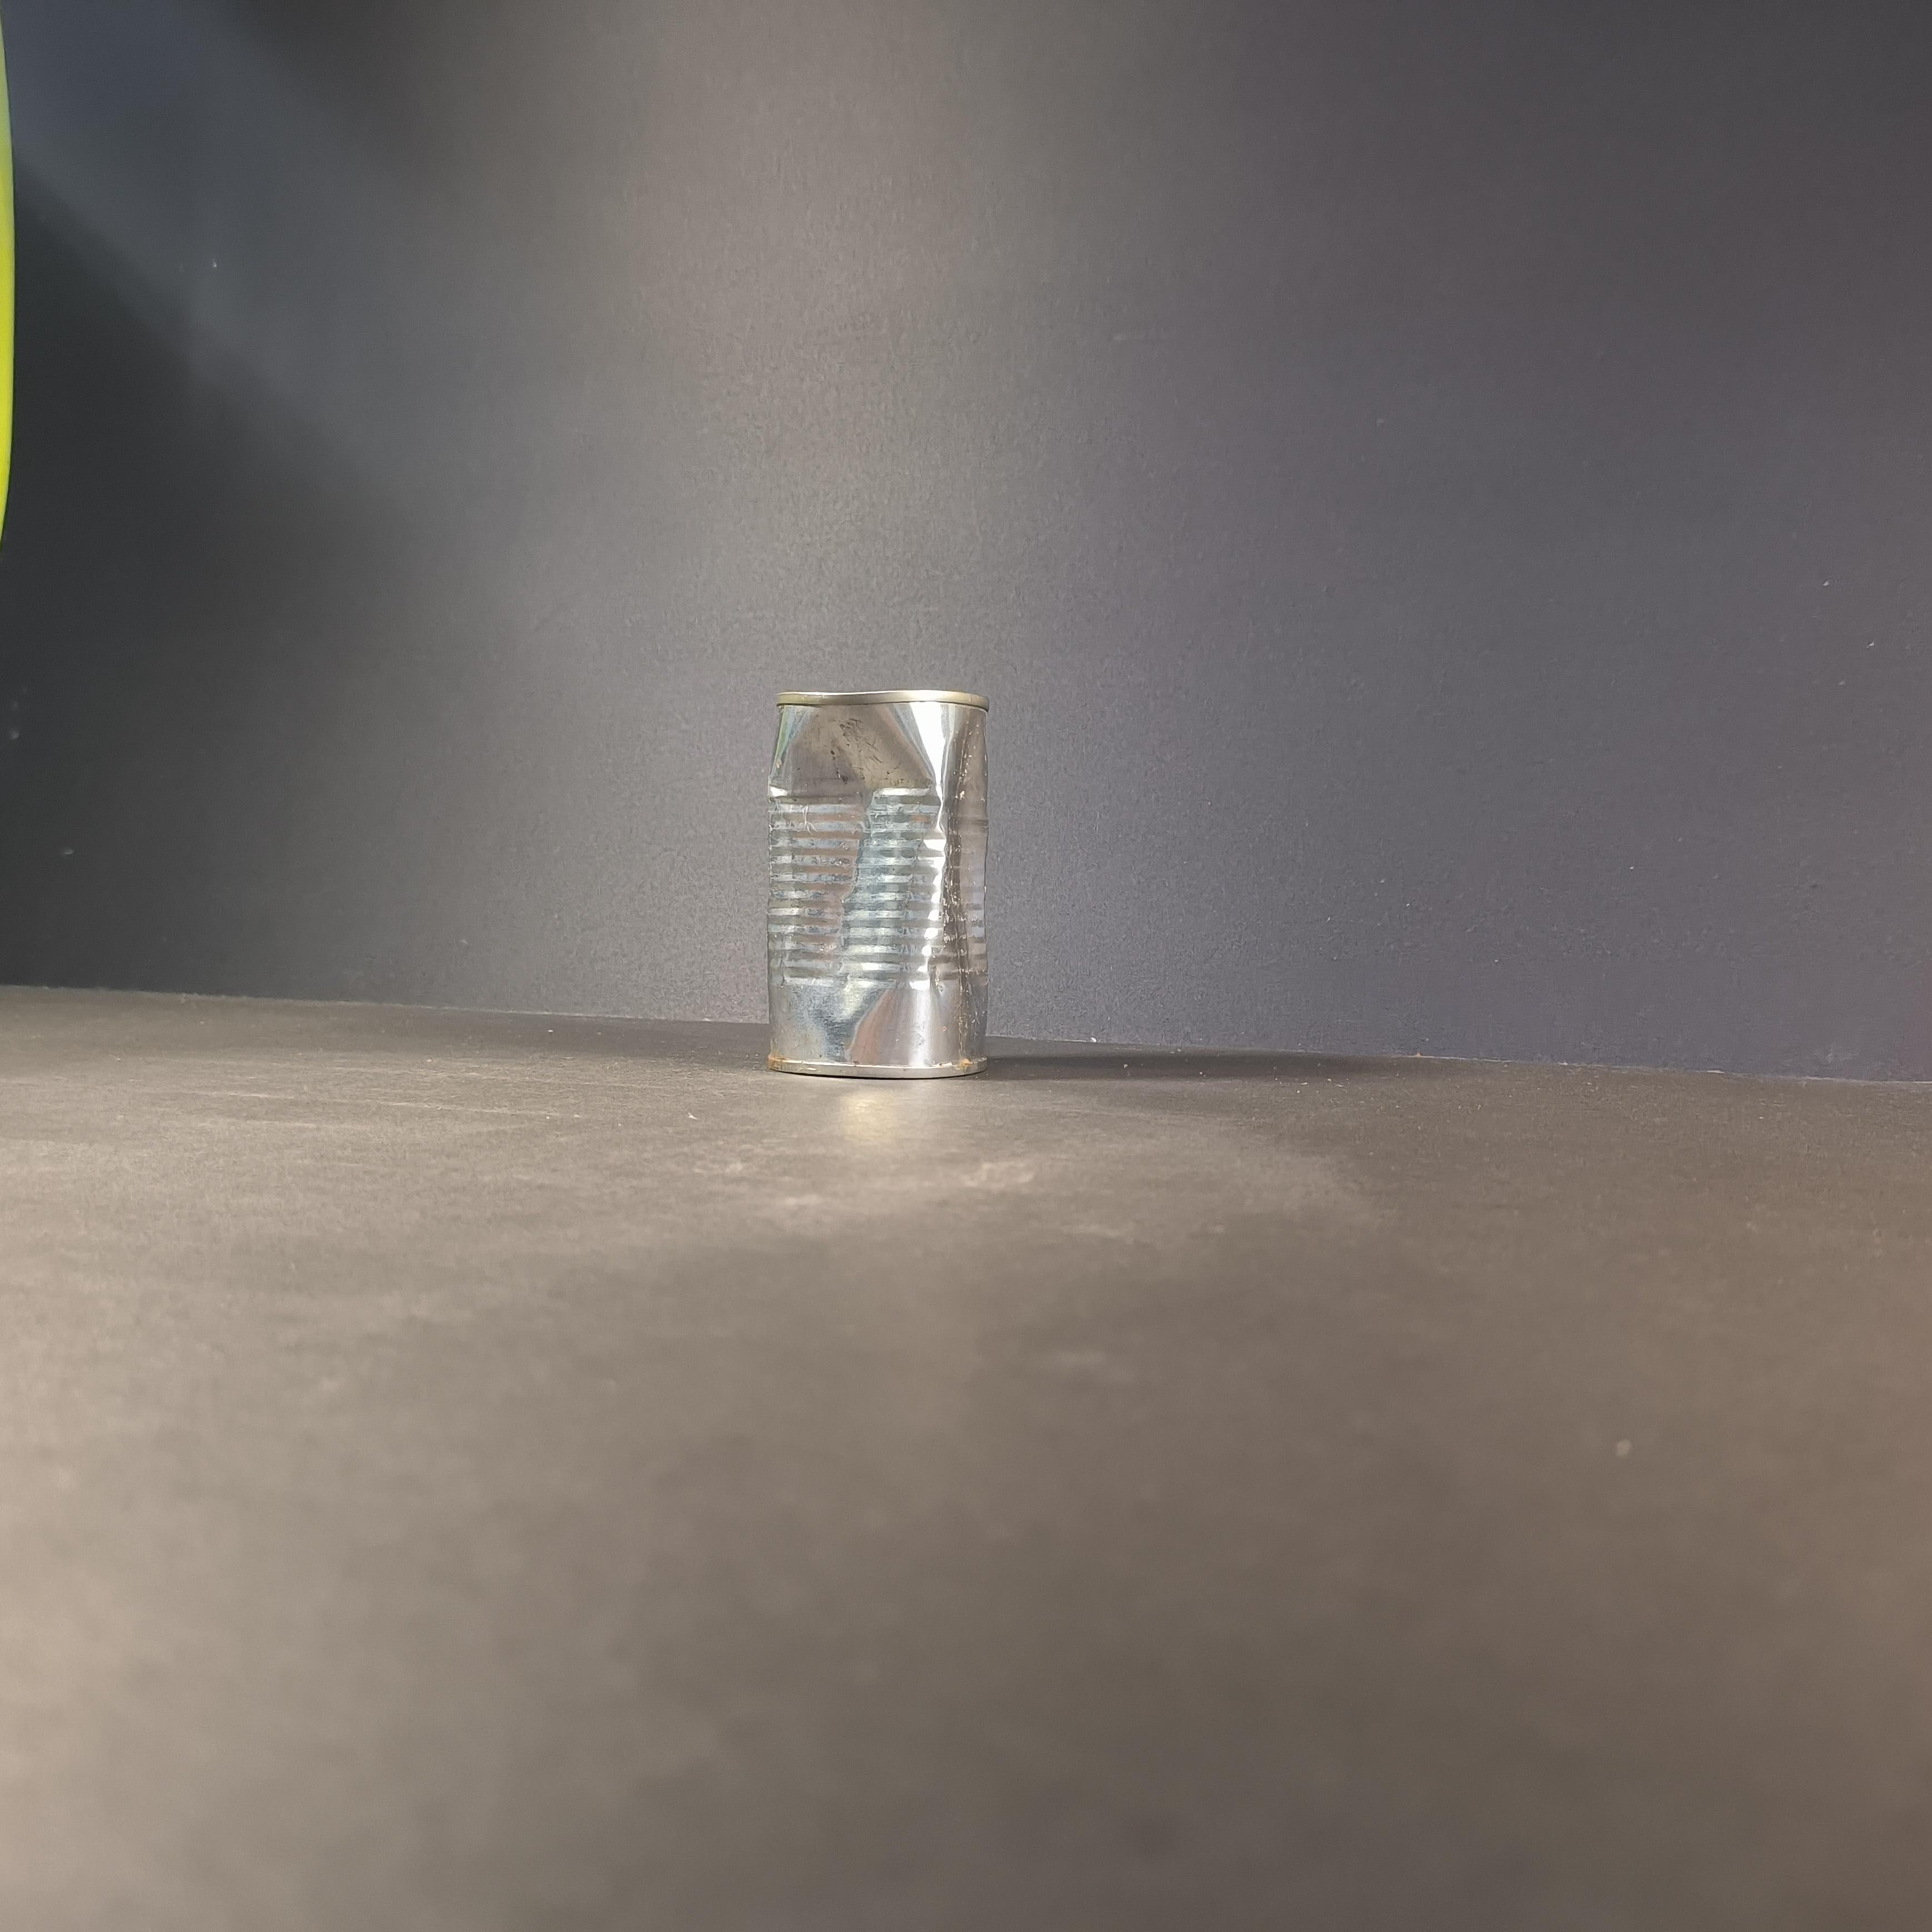Dented: (745, 665, 1010, 1090)
